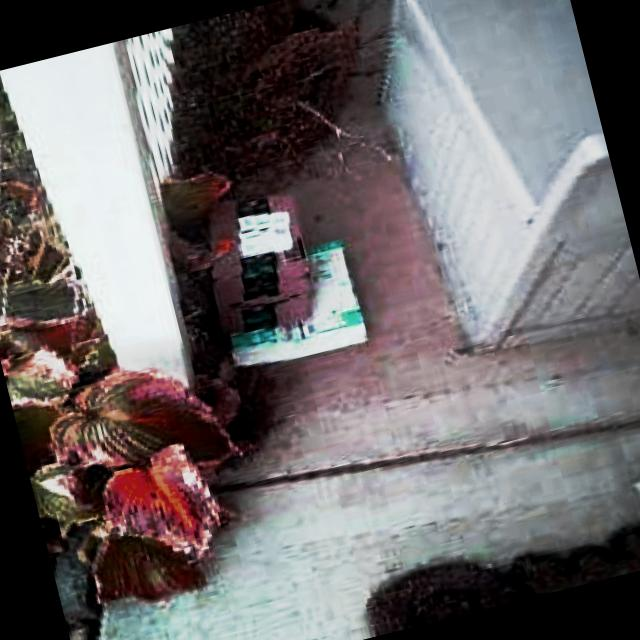Box: (209, 240, 366, 378), (188, 185, 324, 342)
